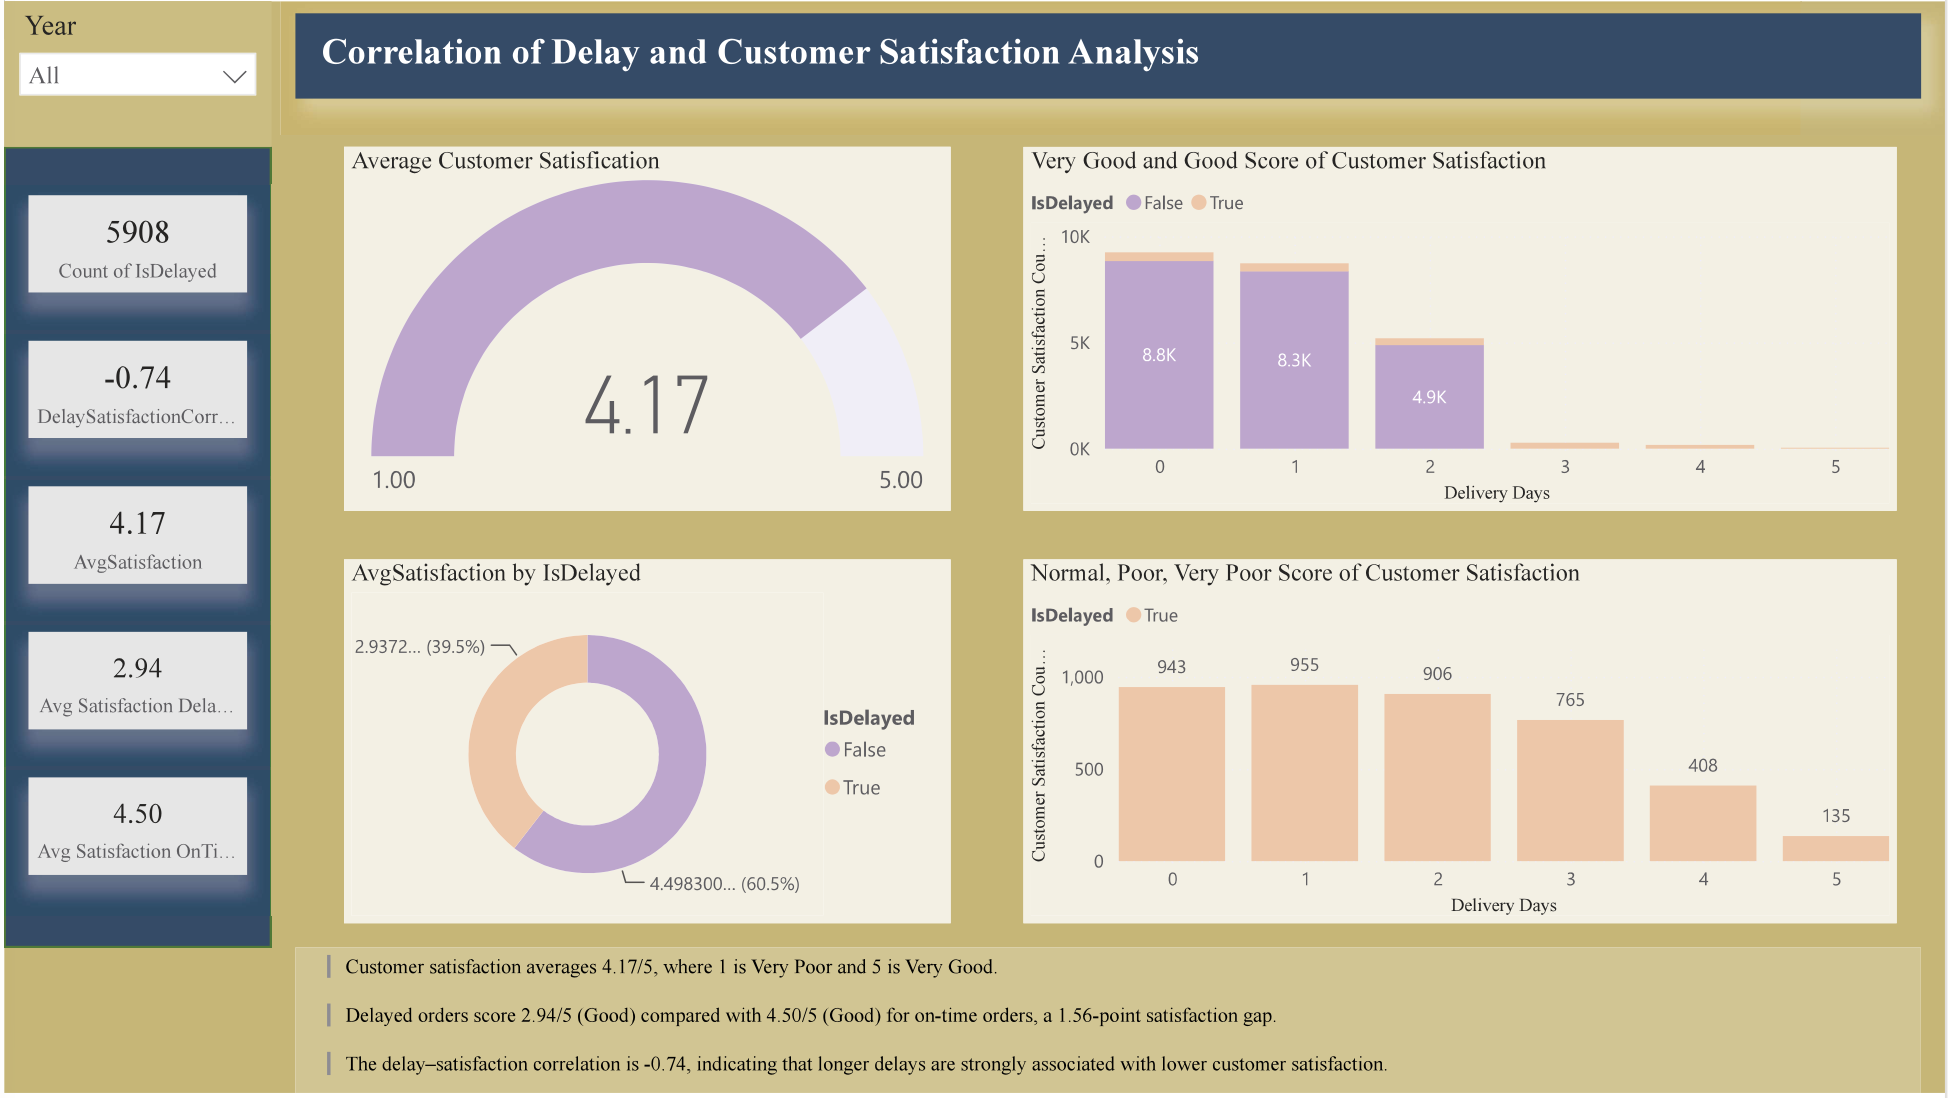

The page's visual inventory and layout, read from the dashboard file:
{"tool":"powerbi","page":{"name":"Customer Satisfaction Analysis","canvas":[1280,720],"ordinal":1},"visuals":[{"type":"shape","box":[0,96,176,528],"z":0},{"type":"card","fields":{"Values":["CountNonNull(FACT-Orders.IsDelayed)"]},"box":[16,128,144,64],"z":1000},{"type":"slicer","fields":{"Values":["FACT-Orders.OrderDate.Variation.Date Hierarchy.Year"]},"box":[0,0,176,96],"z":2000},{"type":"card","fields":{"Values":["FACT-Orders.DelaySatisfactionCorrelation"]},"box":[16,224,144,64],"z":3000},{"type":"card","fields":{"Values":["FACT-Orders.AvgSatisfaction"]},"box":[16,320,144,64],"z":4000},{"type":"card","fields":{"Values":["FACT-Orders.Avg Satisfaction Delayed"]},"box":[16,416,144,64],"z":5000},{"type":"card","fields":{"Values":["FACT-Orders.Avg Satisfaction OnTime"]},"box":[16,512,144,64],"z":6000},{"type":"textbox","box":[192,8,1072,56],"z":7000},{"type":"shape","box":[192,624,1072,96],"z":8000},{"type":"multiRowCard","fields":{"Values":["FACT-Orders.CustomerSatisfactionInsight"]},"box":[208,624,544,32],"z":9000},{"type":"multiRowCard","fields":{"Values":["FACT-Orders.CustomerSatisfactionInsight2"]},"box":[208,656,1024,32],"z":10000},{"type":"donutChart","fields":{"Category":["FACT-Orders.IsDelayed"],"Y":["FACT-Orders.AvgSatisfaction"]},"box":[224,368,400,240],"z":11000},{"type":"columnChart","title":"Very Good and Good Score of Customer Satisfaction","fields":{"Category":["FACT-Orders.Delivery Days"],"Y":["CountNonNull(FACT-Orders.CustomerSatisficationID)"],"Series":["FACT-Orders.IsDelayed"]},"box":[672,96,576,240],"z":12000},{"type":"columnChart","title":"Normal, Poor, Very Poor Score of Customer Satisfaction","fields":{"Category":["FACT-Orders.Delivery Days"],"Y":["CountNonNull(FACT-Orders.CustomerSatisficationID)"],"Series":["FACT-Orders.IsDelayed"]},"box":[672,368,576,240],"z":13000},{"type":"gauge","title":"Average Customer Satisfication","fields":{"Y":["FACT-Orders.AvgSatisfaction"]},"box":[224,96,400,240],"z":14000},{"type":"multiRowCard","fields":{"Values":["FACT-Orders.CustomerSatisfactionInsight3"]},"box":[208,688,1024,32],"z":15000}]}

Visuals, with their boxes in screenshot pixels (x1, y1, x2, y2), scaled from the page's 1280x720 canvas onto the 1948x1098 screenshot:
shape: 0,146,268,952
card - CountNonNull(FACT-Orders.IsDelayed): 24,195,244,293
slicer - FACT-Orders.OrderDate.Variation.Date Hierarchy.Year: 0,0,268,146
card - FACT-Orders.DelaySatisfactionCorrelation: 24,342,244,439
card - FACT-Orders.AvgSatisfaction: 24,488,244,586
card - FACT-Orders.Avg Satisfaction Delayed: 24,634,244,732
card - FACT-Orders.Avg Satisfaction OnTime: 24,781,244,878
textbox: 292,12,1924,98
shape: 292,952,1924,1097
multiRowCard - FACT-Orders.CustomerSatisfactionInsight: 317,952,1144,1000
multiRowCard - FACT-Orders.CustomerSatisfactionInsight2: 317,1000,1875,1049
donutChart - FACT-Orders.IsDelayed x FACT-Orders.AvgSatisfaction: 341,561,950,927
"Very Good and Good Score of Customer Satisfaction" columnChart: 1023,146,1899,512
"Normal, Poor, Very Poor Score of Customer Satisfaction" columnChart: 1023,561,1899,927
"Average Customer Satisfication" gauge: 341,146,950,512
multiRowCard - FACT-Orders.CustomerSatisfactionInsight3: 317,1049,1875,1097
